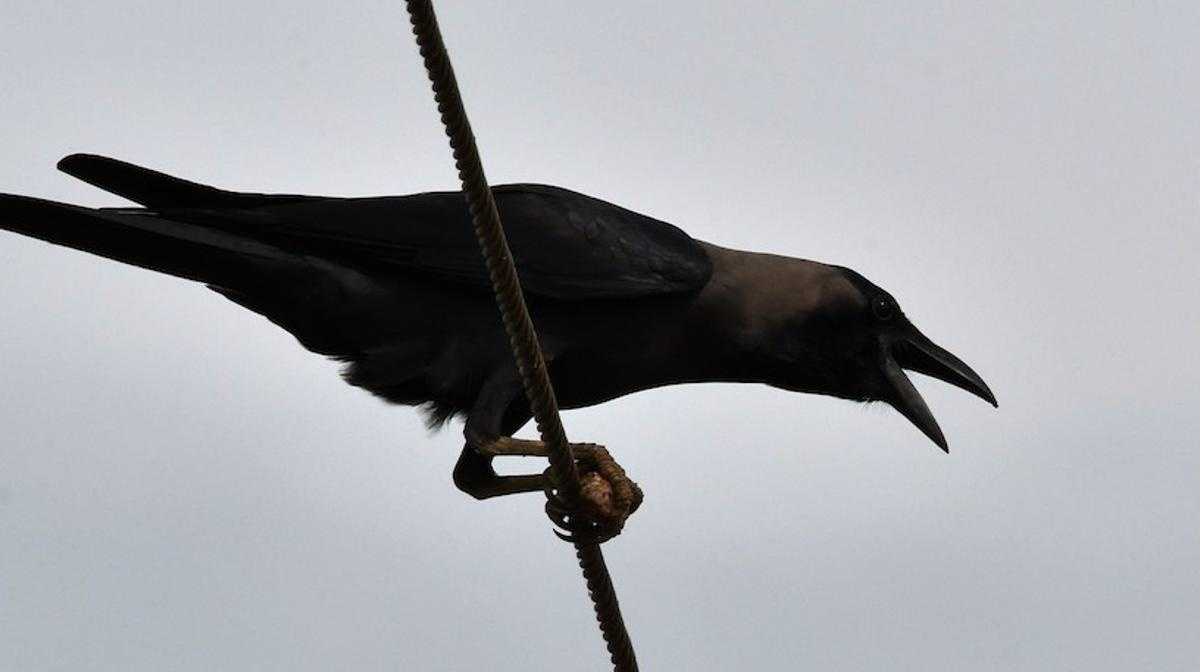crow: (49, 177, 1011, 509)
